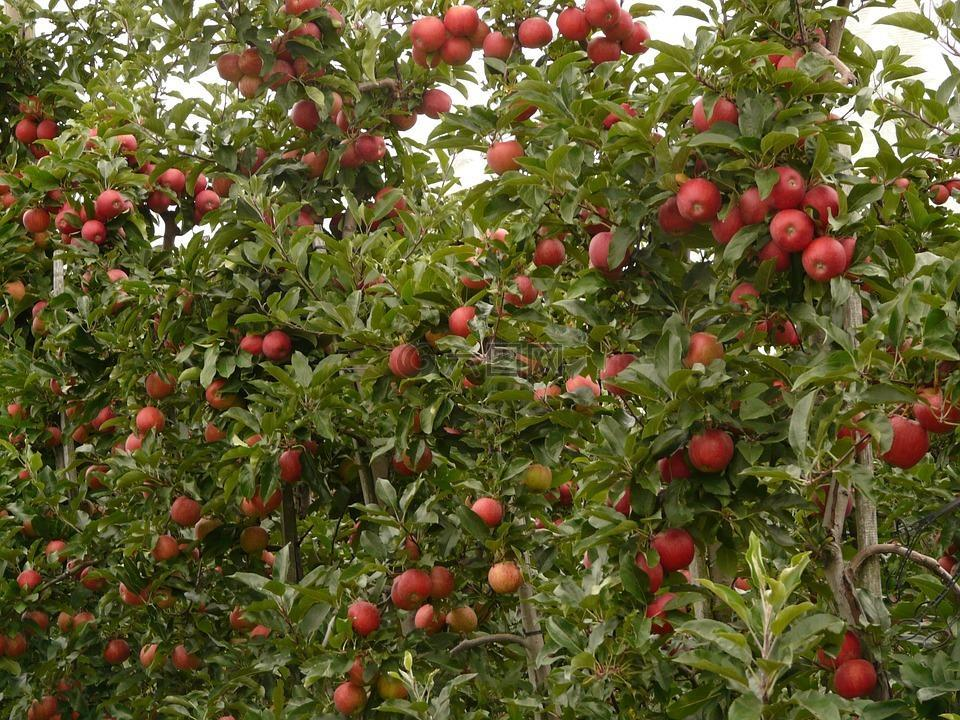apple: (877, 415, 928, 468), (675, 177, 723, 221), (686, 429, 733, 473), (803, 237, 849, 281), (649, 527, 694, 571), (833, 659, 877, 700), (769, 164, 809, 207), (679, 331, 723, 369), (769, 210, 811, 249), (397, 567, 433, 606), (485, 140, 523, 175), (331, 681, 368, 716), (411, 14, 445, 52), (443, 3, 481, 37), (346, 599, 380, 635), (487, 560, 521, 595), (523, 461, 554, 495), (584, 1, 621, 28), (588, 37, 622, 66), (169, 495, 200, 526), (440, 36, 472, 66), (354, 134, 387, 161), (96, 187, 125, 216), (261, 332, 291, 360), (193, 186, 220, 216), (239, 49, 265, 77), (81, 218, 107, 244), (239, 75, 266, 98)
